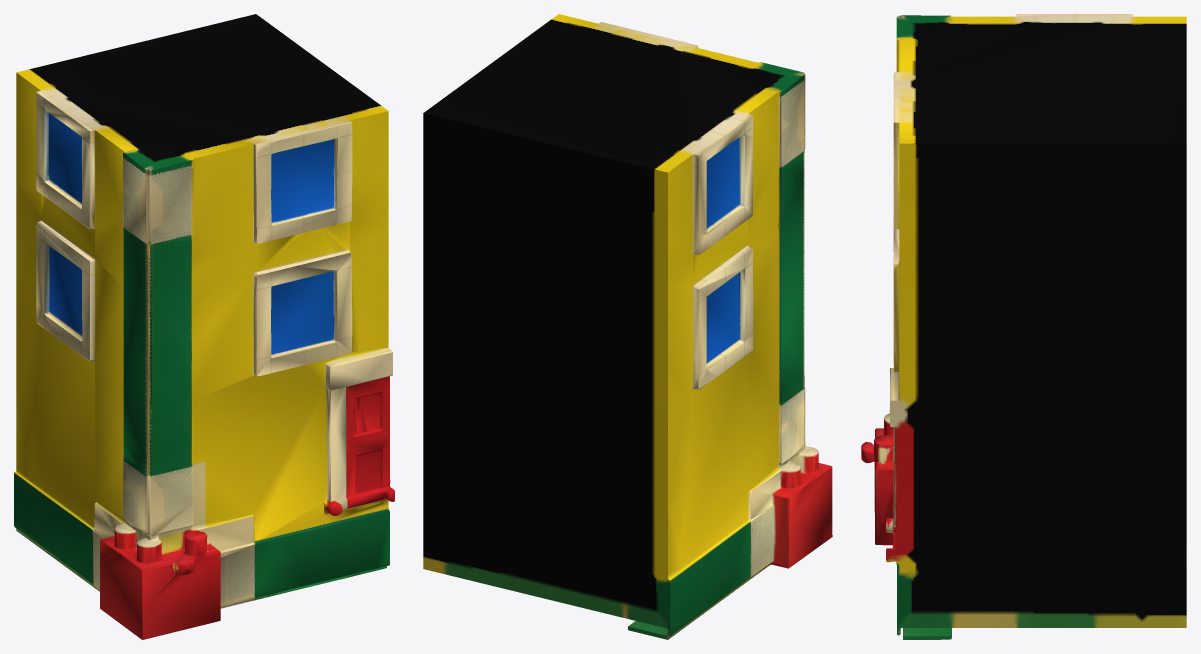
The model's file is 1-ground-floor-front-left.fbx.
3 views of the same model, side by side, from view 1: azimuth 30°, elevation 25°; view 2: azimuth 150°, elevation 25°; view 3: azimuth 270°, elevation 25° (orthographic). The views are drawn at different scales.
Visible parts, largest first — view 1: ground-floor-front-left; view 2: ground-floor-front-left; view 3: ground-floor-front-left.
Part boxes in pixels (bbox=[...]): ground-floor-front-left: bbox=[14, 14, 394, 639]; ground-floor-front-left: bbox=[423, 14, 832, 639]; ground-floor-front-left: bbox=[861, 14, 1186, 639].
Size of the model in its own units: 5046 by 8576 by 5093.
1 material, 1 textured.
